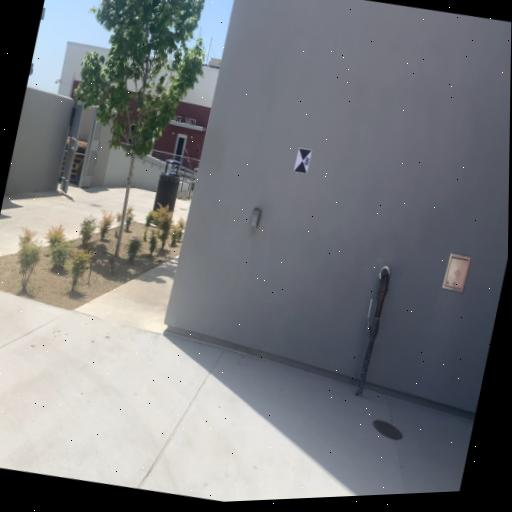target8: (293, 147, 313, 176)
